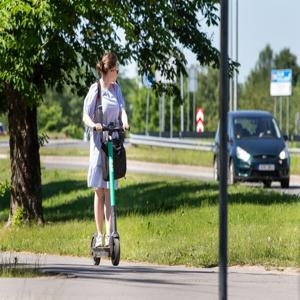human on a scooter: (82, 53, 130, 266)
